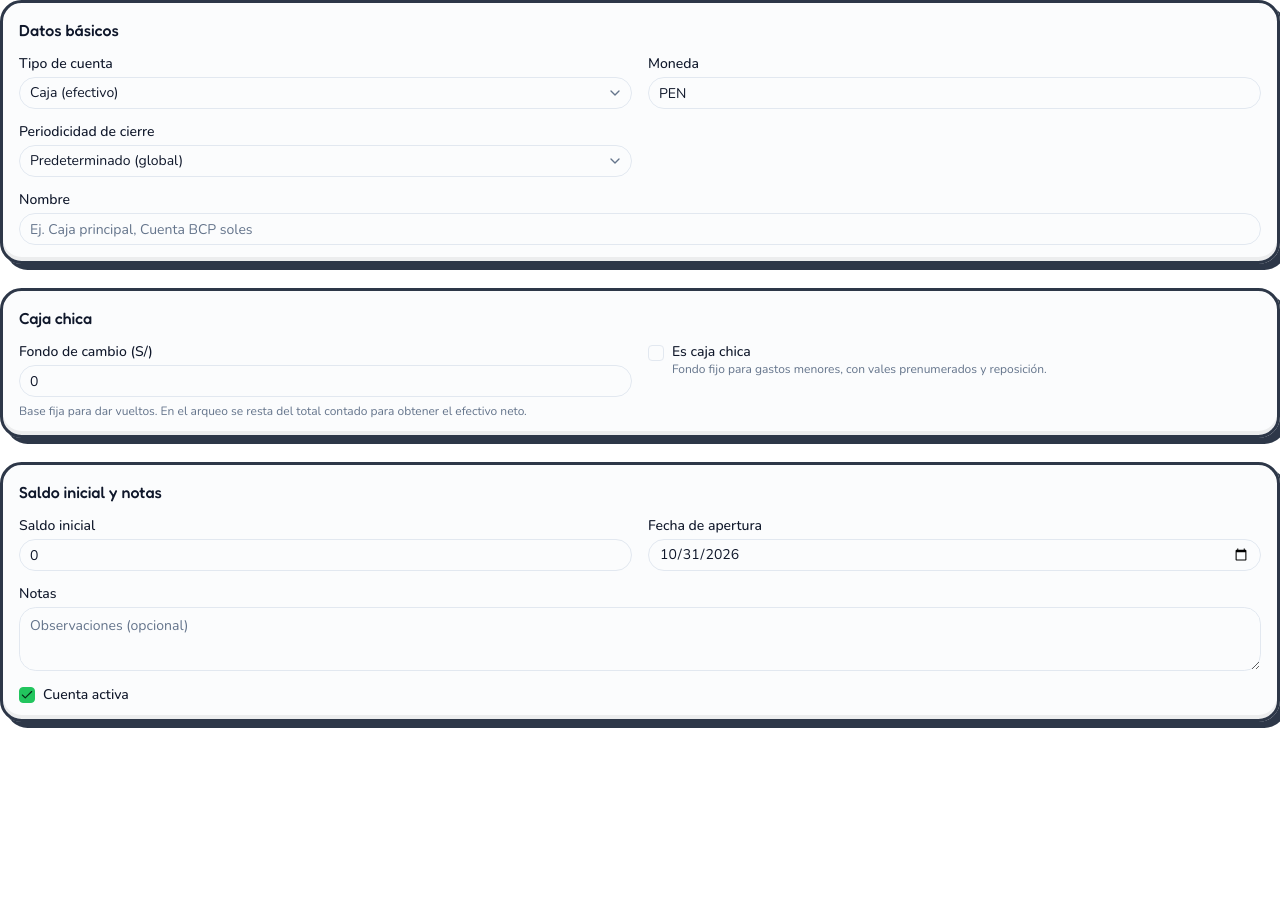
Test: CashAccountForm — caja chica › pide límite y custodio al marcar la caja como caja chica
Expected: the number field labelled "Fondo de cambio (S/)" is shown, top-left (19, 365), bottom-right (632, 397)
Expected: the field labelled "Límite por gasto (S/)" is not shown
Click the checkbox named "Es caja chica" next to "Es caja chica" at (656, 353), box top-left (648, 345), bottom-right (664, 361)
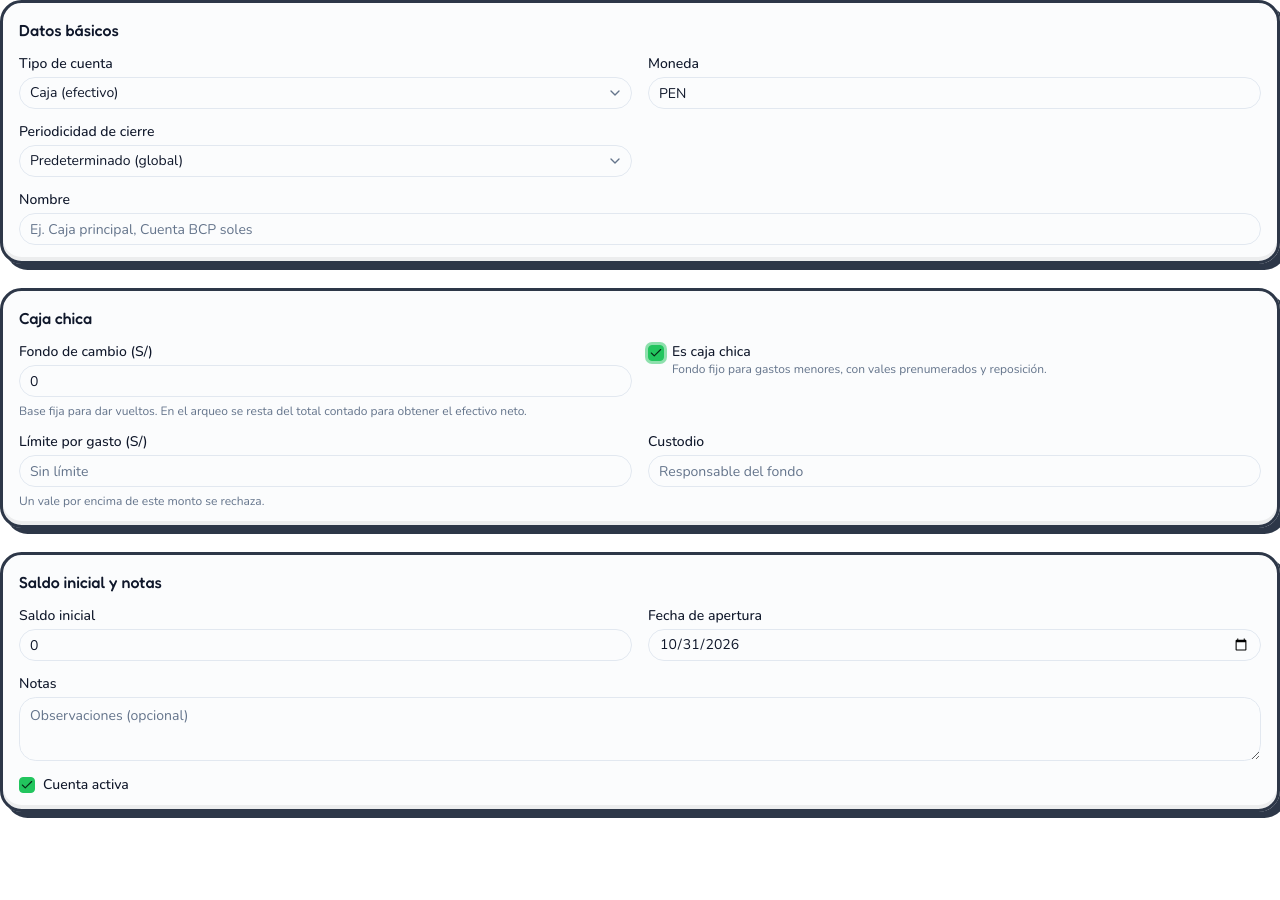
Expected: the number field labelled "Límite por gasto (S/)" is shown, top-left (19, 455), bottom-right (632, 487)
Expected: the field labelled "Custodio" is shown, top-left (648, 455), bottom-right (1261, 487)
